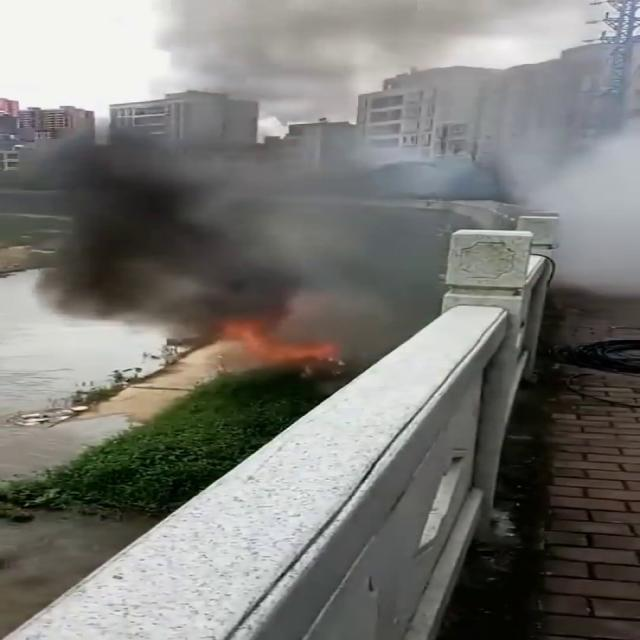Fire: (178, 322, 305, 372)
Smoke: (0, 0, 459, 347)
